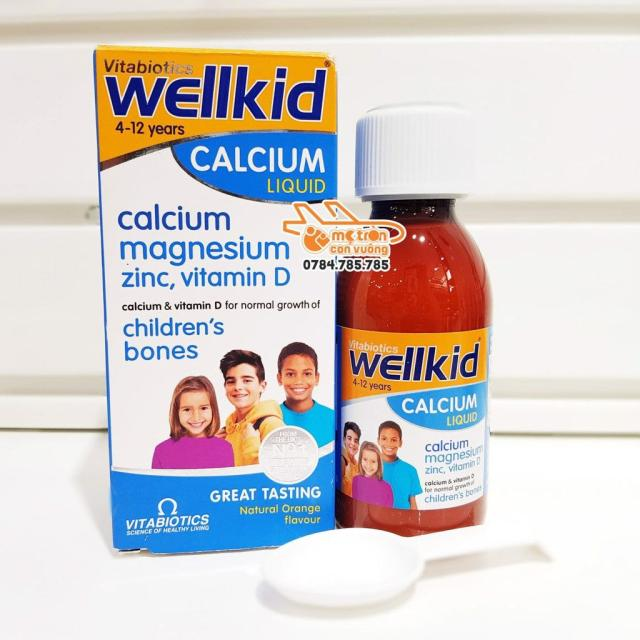food-supliment: (92, 53, 333, 539), (345, 203, 483, 519)
